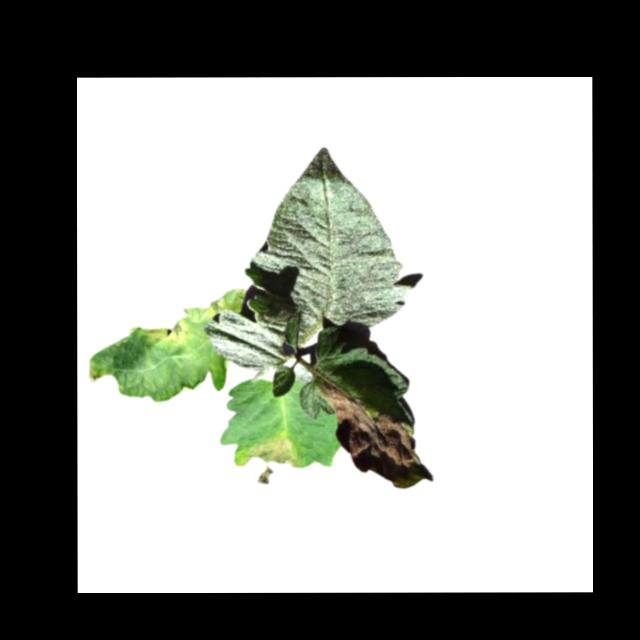Late_blight: (318, 380, 434, 488), (240, 429, 298, 484), (185, 288, 244, 319), (137, 319, 189, 346), (86, 366, 102, 384)
healthy: (204, 145, 412, 370)
